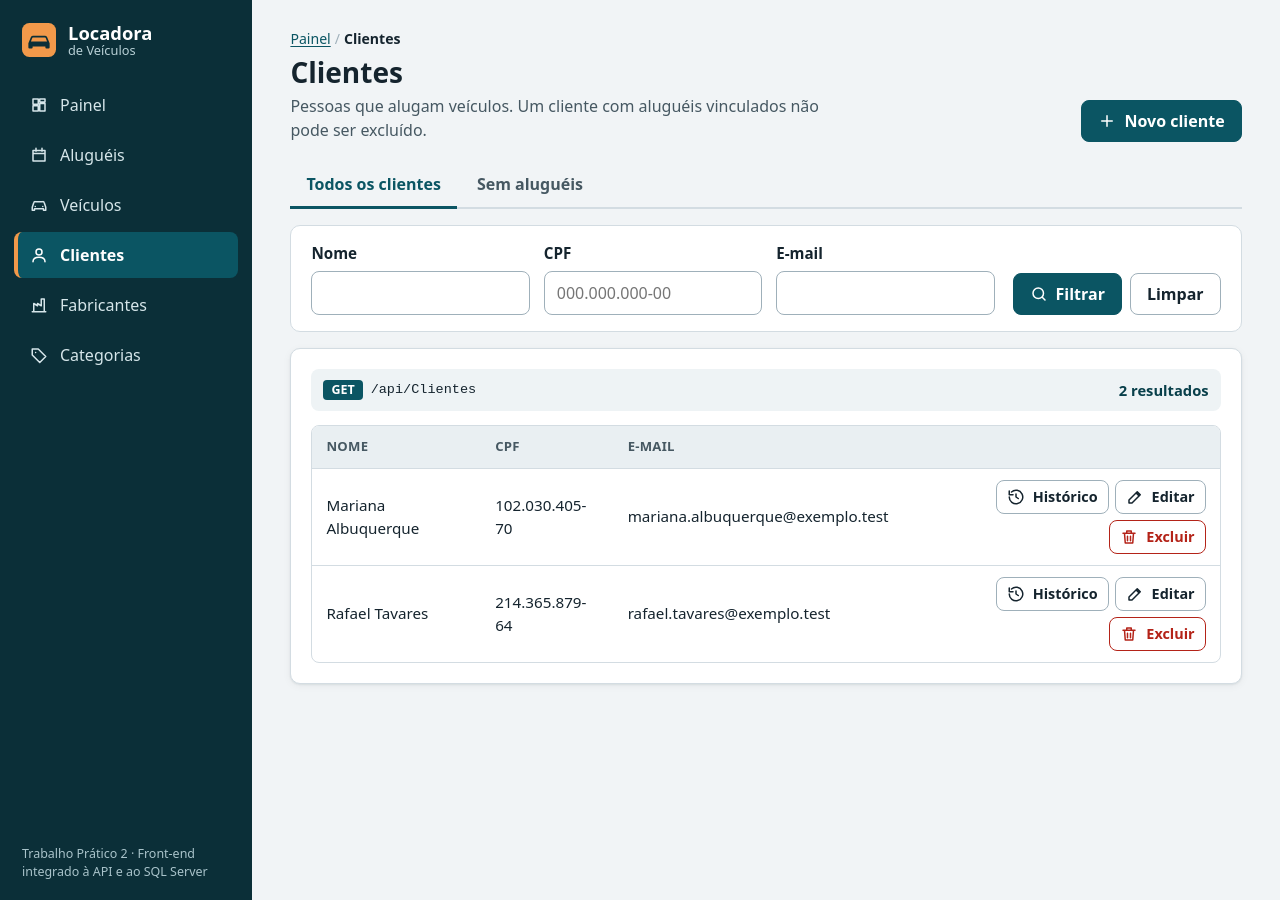
Scenario: Clientes › exclui com confirmação e mostra o conflito de vínculos
Click the button with aria-label "Excluir cliente Mariana Albuquerque": (1157, 537) [1109,520,1206,554]
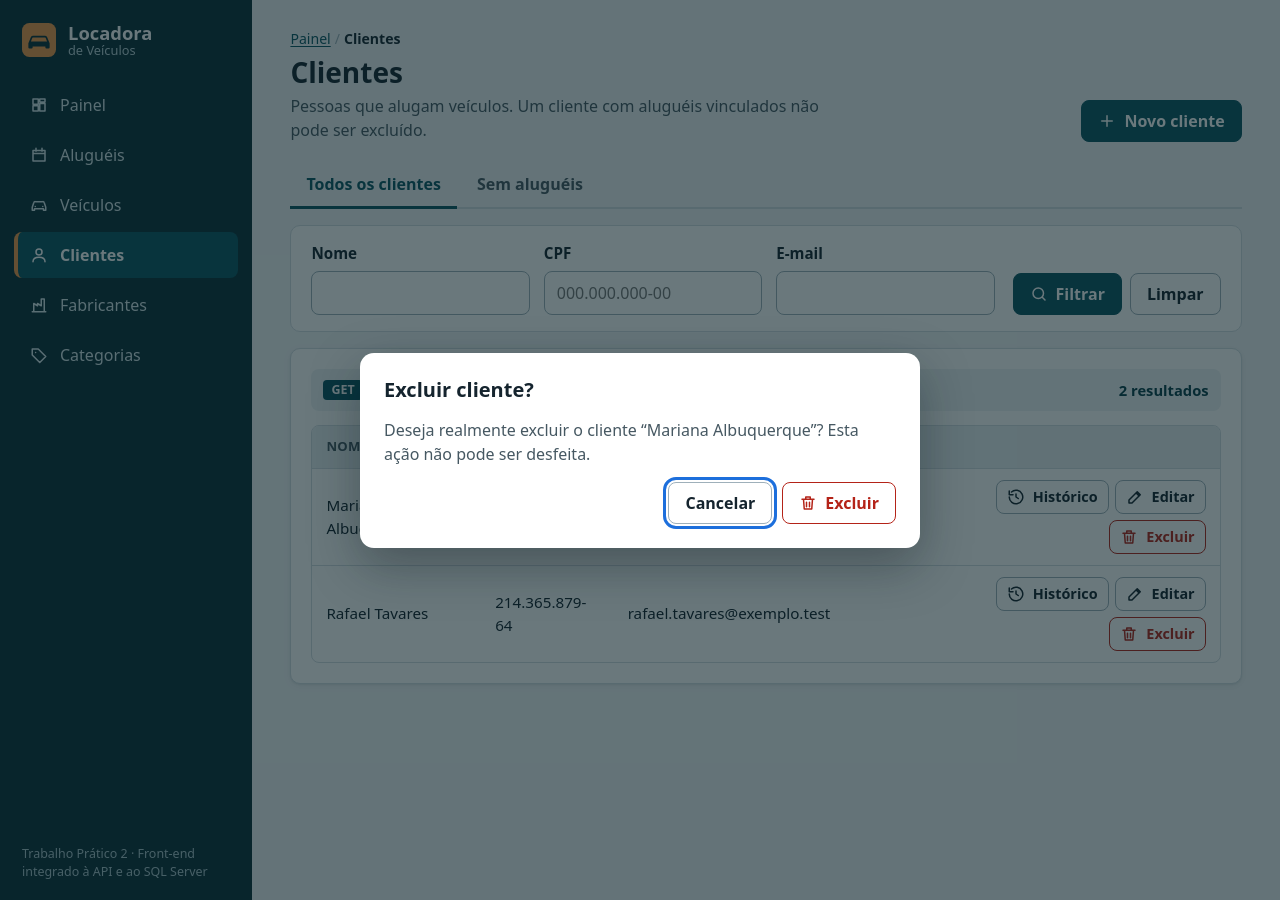
Click the button "Excluir": (839, 502) [782,482,896,524]
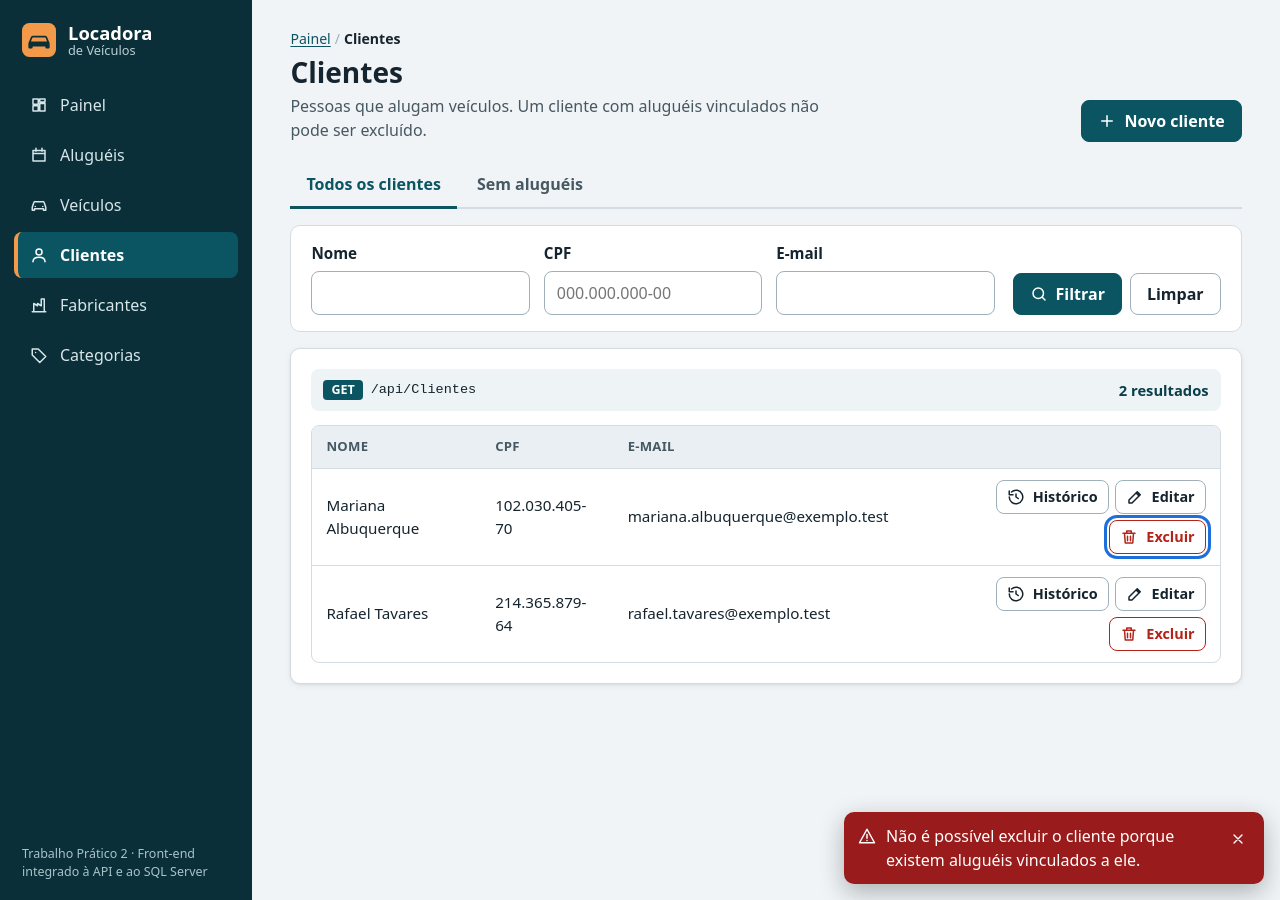
Expected: the message shows "existem aluguéis vinculados a ele", [886,825,1174,871]
